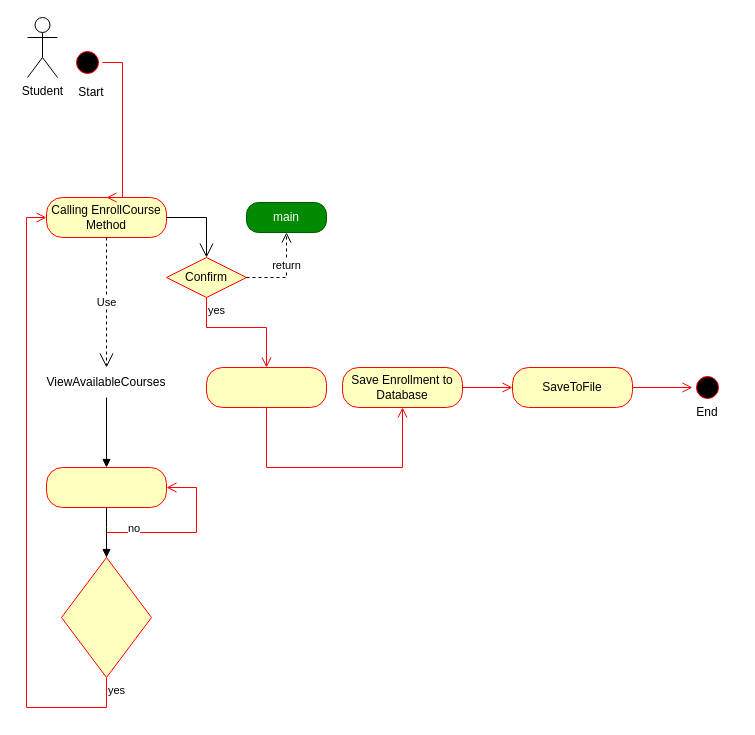
The diagram is 755 pixels wide and 735 high, and some of its shapes have lost their labels. The centre of each missing label's shape, as x and y in pixels:
"ChooseCourse" belongs at [106,487].
"is there is a course with this name ?" belongs at [106,617].
"updateInfo" belongs at [266,387].
